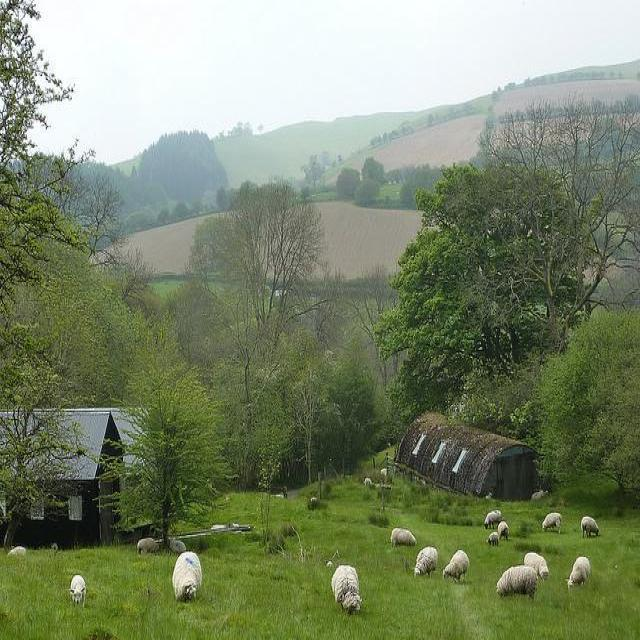Sheep: (135, 466, 544, 554)
